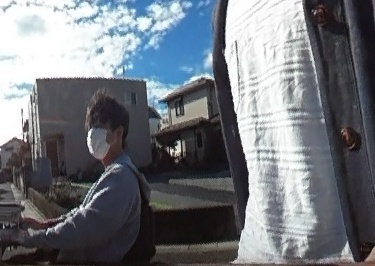person: (6, 89, 145, 266)
